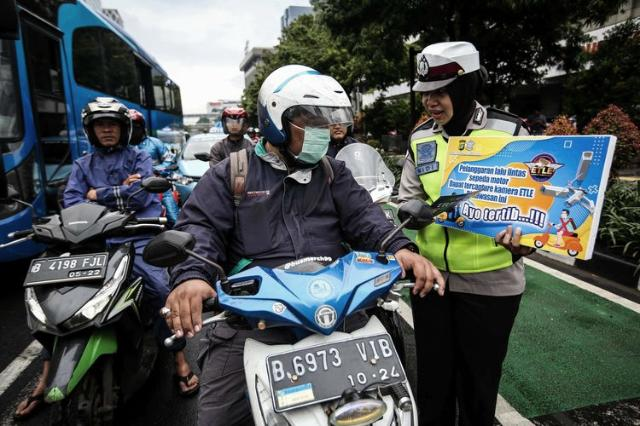helm: (255, 63, 351, 167), (82, 97, 134, 158), (222, 106, 249, 139)
motor: (136, 197, 461, 426), (4, 175, 175, 426)
